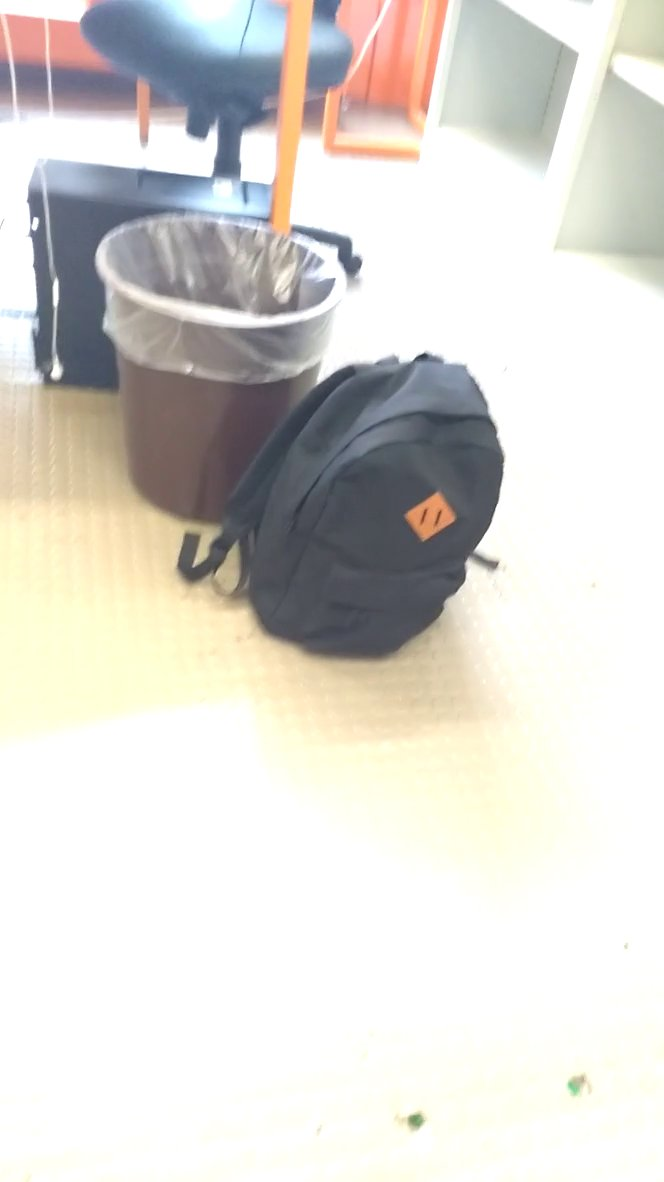bag: (176, 347, 514, 669)
bin: (92, 194, 357, 534)
chair: (75, 1, 369, 183)
